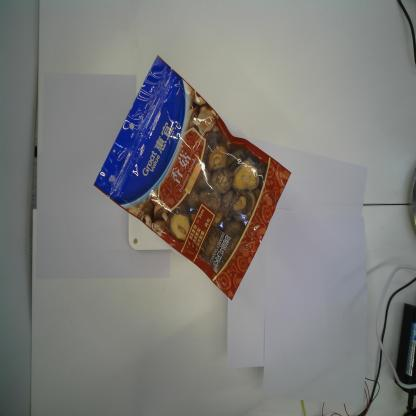Dried Food: (93, 54, 292, 302)
